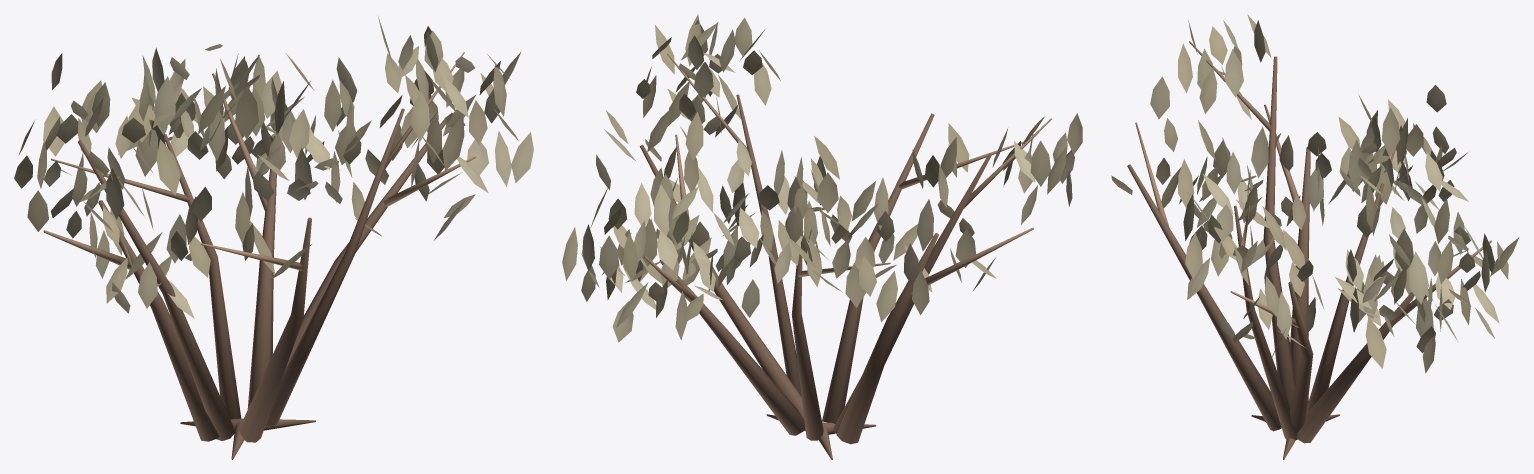
Rendered from bush_3d_06_golden_beige.glb.
3 renders of one model, left to right at view 1: azimuth 30°, elevation 25°; view 2: azimuth 150°, elevation 25°; view 3: azimuth 270°, elevation 25°, orthographic. The views are drawn at different scales.
Visible parts, largest first — view 1: bush_3d_06_golden_beige_foliage, bush_3d_06_golden_beige_wood; view 2: bush_3d_06_golden_beige_foliage, bush_3d_06_golden_beige_wood; view 3: bush_3d_06_golden_beige_foliage, bush_3d_06_golden_beige_wood.
Boxes of the visible parts, x1,y1,x2,y2 form: bush_3d_06_golden_beige_foliage: [14, 16, 533, 318]; bush_3d_06_golden_beige_wood: [43, 52, 476, 459]; bush_3d_06_golden_beige_foliage: [562, 14, 1082, 342]; bush_3d_06_golden_beige_wood: [640, 53, 1051, 459]; bush_3d_06_golden_beige_foliage: [1111, 14, 1519, 373]; bush_3d_06_golden_beige_wood: [1127, 41, 1491, 459].
Size of the model in its own units: 2.66 by 2.02 by 2.1.
